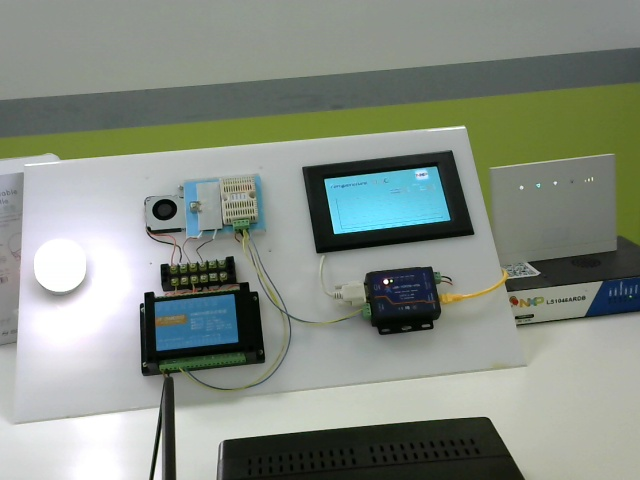fan: (133, 186, 184, 240)
heater: (192, 179, 221, 243)
modbus bridge: (365, 263, 452, 341)
relay: (129, 284, 274, 379)
termperature: (220, 174, 265, 231)
